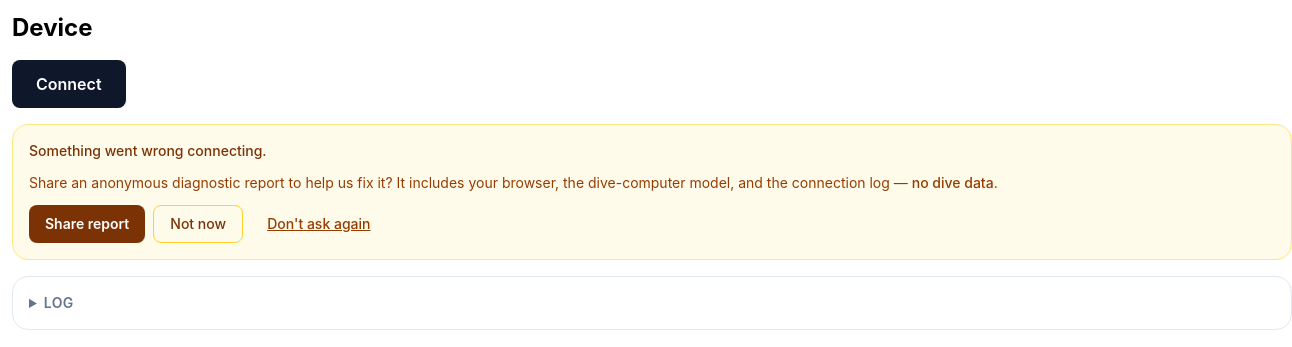
it: ConnectScreen diagnostics affordances › replaces the opt-in card with a code the user can quote after Share report
Click the button "Share report" at (87, 224), box x1=29 y1=205 x2=145 y2=243
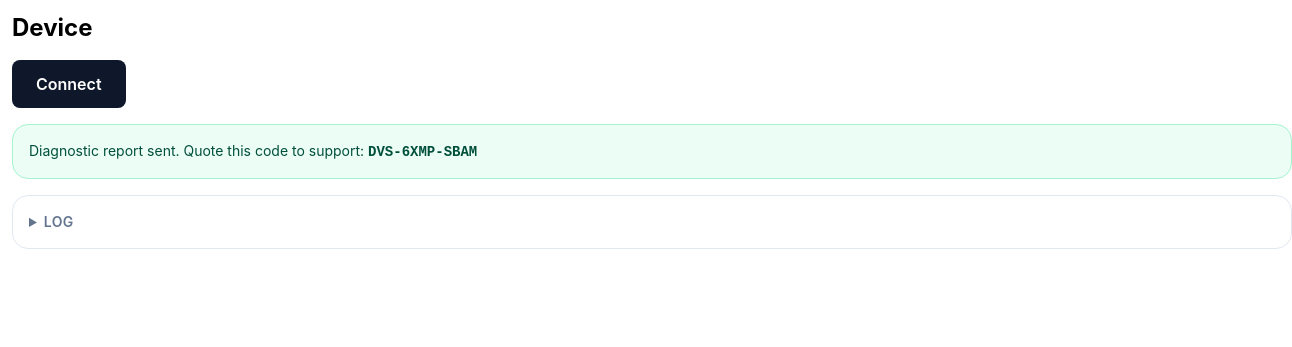
Expected: the text "Something went wrong connecting." is gone
Expected: the text "Quote this code to support:" is shown, x1=29 y1=142 x2=364 y2=159
